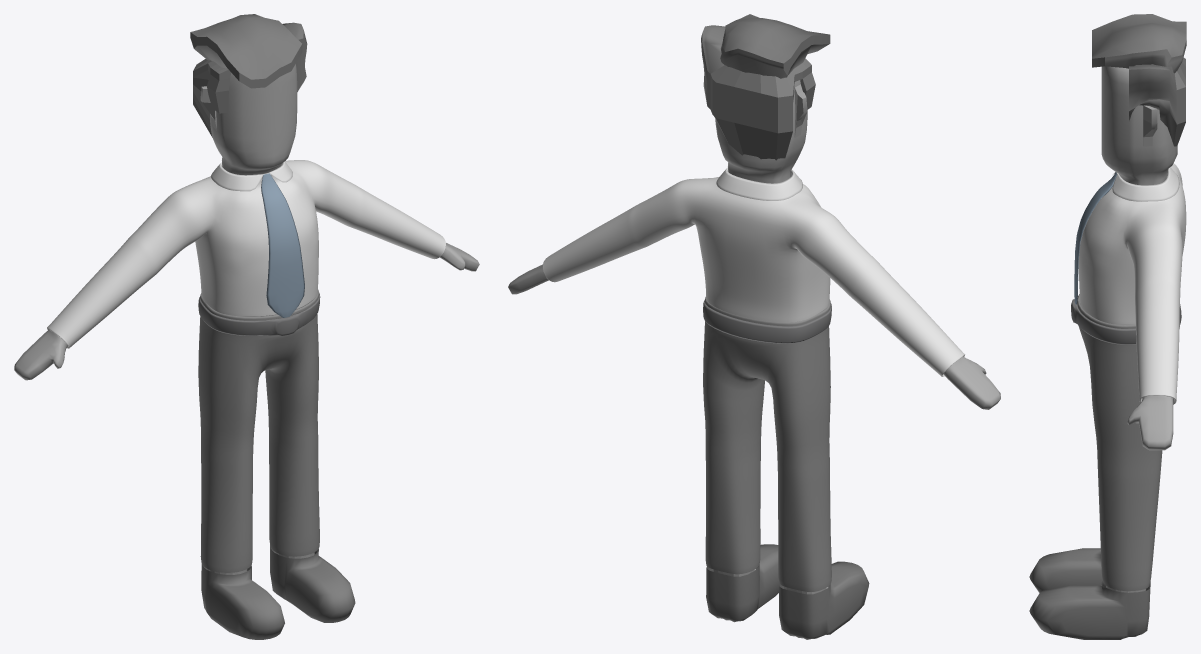
Rendered from Lorrent.fbx.
3 views of the same model, side by side, from view 1: azimuth 30°, elevation 25°; view 2: azimuth 150°, elevation 25°; view 3: azimuth 270°, elevation 25° (orthographic). The views are drawn at different scales.
Visible parts, largest first — view 1: polySurface5, polySurface9, polySurface14, pCube6, polySurface13, polySurface12, polySurface10; view 2: polySurface5, polySurface9, pCube6, polySurface14, polySurface13, polySurface12, polySurface10; view 3: polySurface5, polySurface9, polySurface14, pCube6, polySurface12, polySurface13, polySurface10.
Boxes of the visible parts, x1,y1,x2,y2 form: polySurface5: (47,160,445,348); polySurface9: (198,289,319,572); polySurface14: (14,64,479,574); pCube6: (190,14,307,137); polySurface13: (201,563,284,639); polySurface12: (270,545,355,622); polySurface10: (198,292,320,335); polySurface5: (542,167,964,376); polySurface9: (703,297,831,591); pCube6: (701,14,830,160); polySurface14: (508,80,1000,594); polySurface13: (779,561,869,639); polySurface12: (706,544,779,622); polySurface10: (703,300,831,343); polySurface5: (1074,163,1186,404); polySurface9: (1077,294,1180,591); polySurface14: (1101,66,1177,592); pCube6: (1092,14,1186,146); polySurface12: (1029,580,1150,639); polySurface13: (1029,548,1102,592); polySurface10: (1071,296,1181,344).
Bounding box in the file's own units: 3.68 × 4.43 × 1.08.
